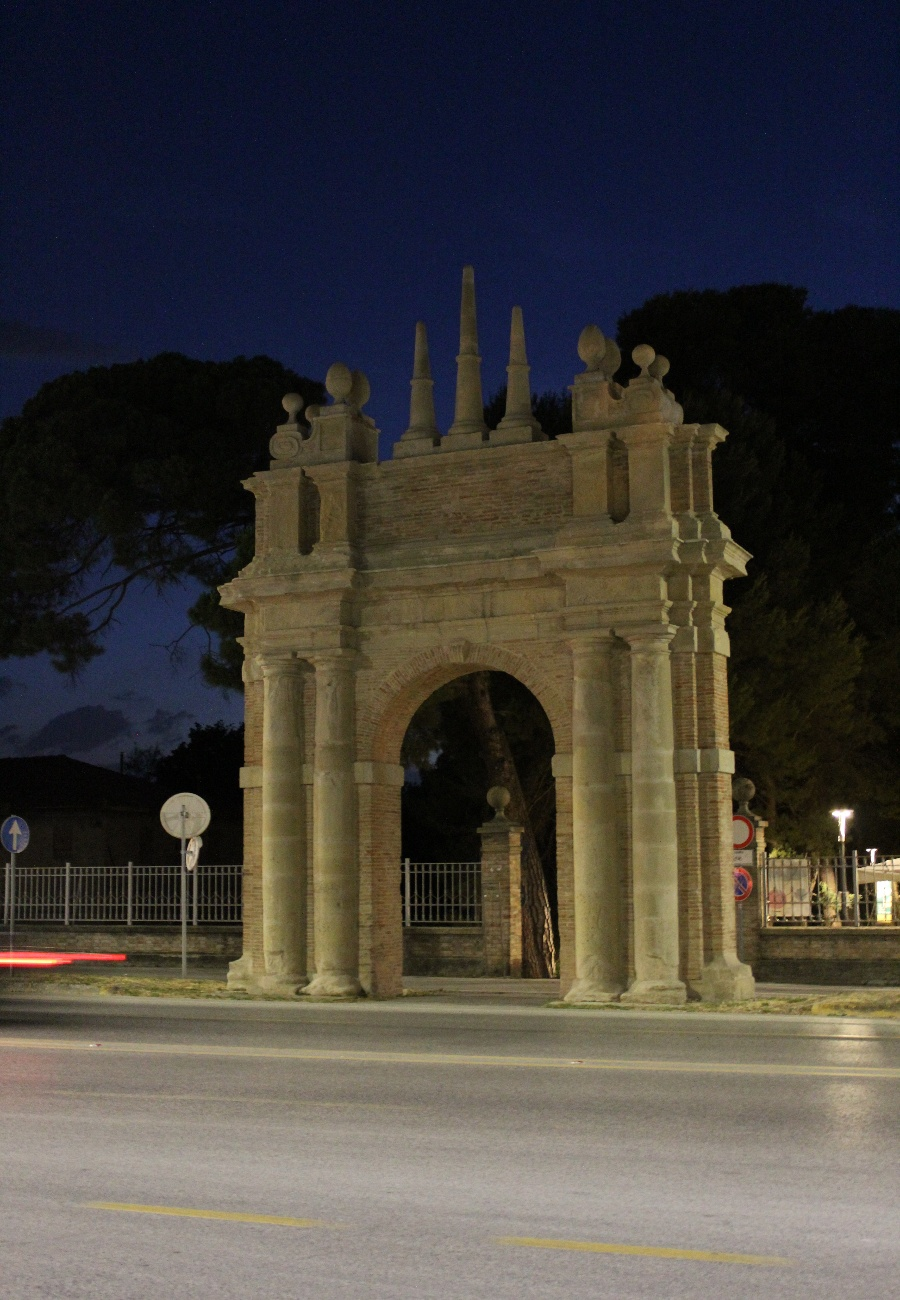Arco di Trionfo: (217, 260, 757, 1002)
